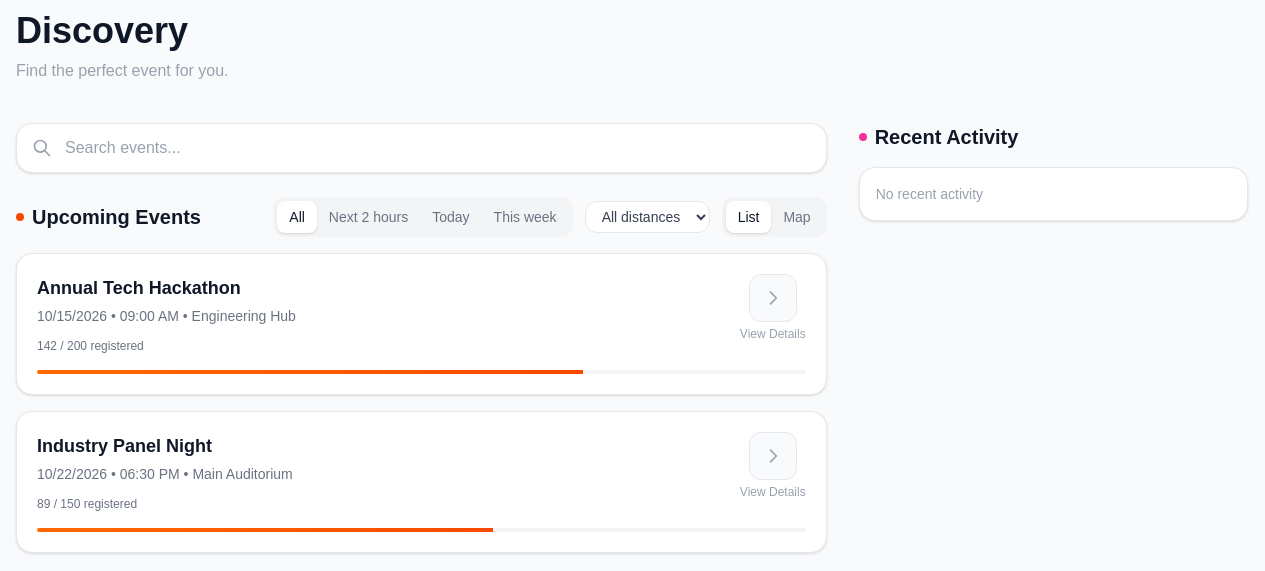
Test: FR-02: Location/Radius Filter › test_FR02_location_filter: event count updates when filter changes
The width and height of the screenshot is (1265, 571).
Expected: the heading "Annual Tech Hackathon" is shown, [37,278,241,298]
Expected: the heading "Industry Panel Night" is shown, [37,436,212,456]
Select "Within 500m" in the dropdown with test id "radius-filter" at point(647, 217), box [585,201,710,233]
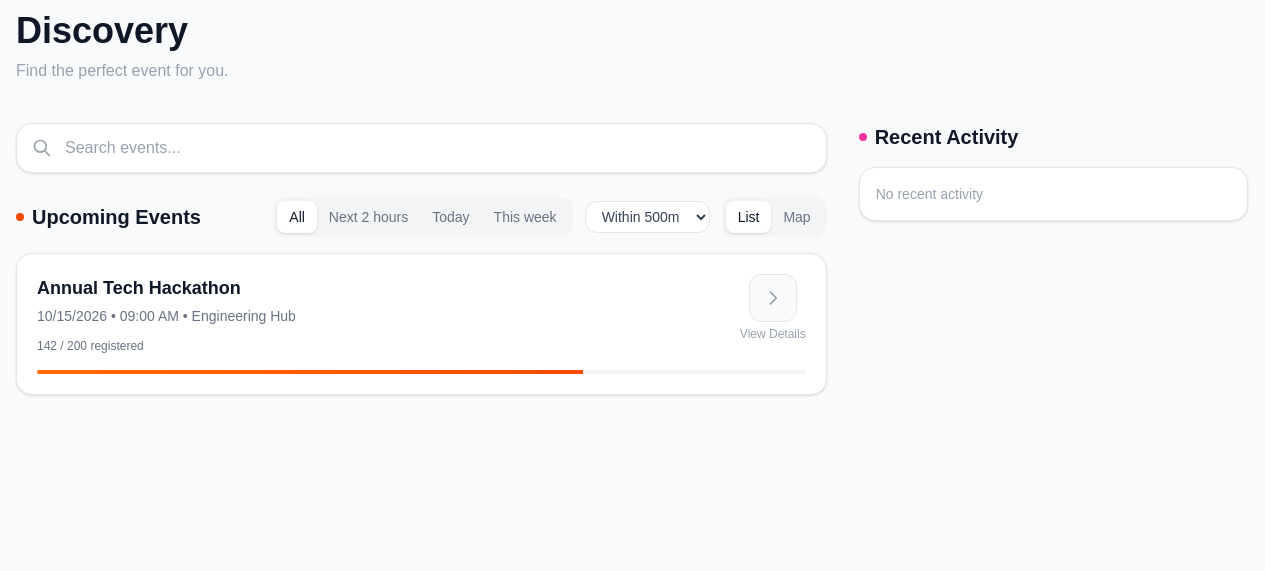
Expected: the heading "Annual Tech Hackathon" is shown, [37,278,241,298]
Result: the link "Industry Panel Night" is gone
